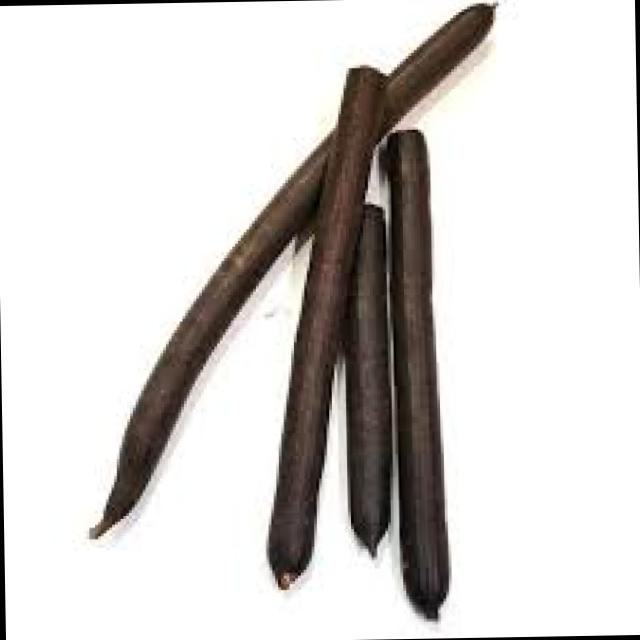Amaltas: (92, 6, 618, 608)
